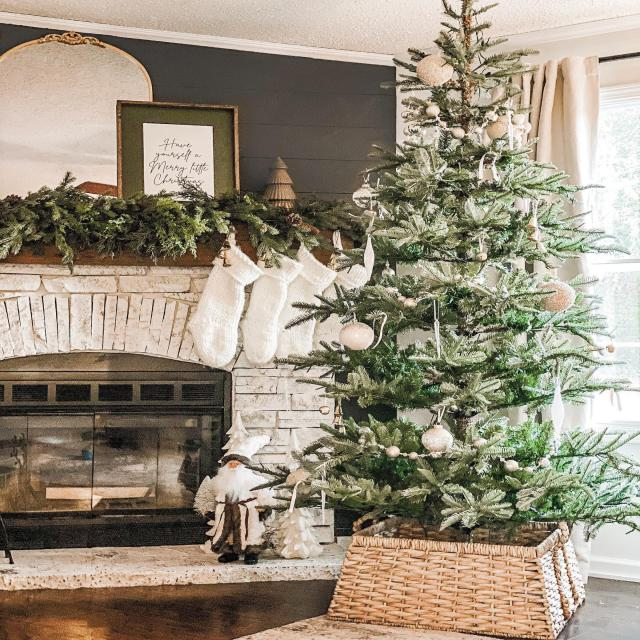Abies: (262, 4, 640, 537)
